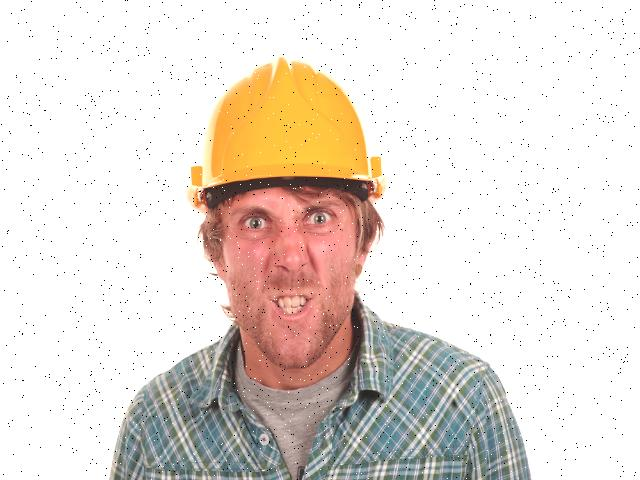Helmet: (180, 48, 392, 222)
